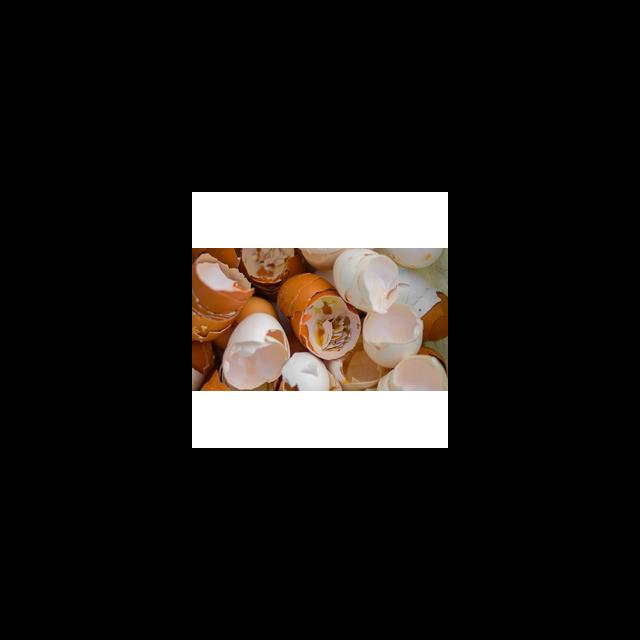food_waste: (274, 268, 370, 367), (192, 247, 261, 342), (221, 312, 302, 392), (357, 301, 432, 364), (338, 234, 398, 309), (391, 273, 448, 336), (238, 243, 298, 301), (377, 354, 448, 400), (192, 336, 234, 397), (282, 350, 335, 398), (382, 243, 448, 275), (298, 245, 336, 282)
